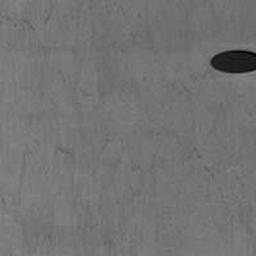Punching: (210, 50, 256, 74)
